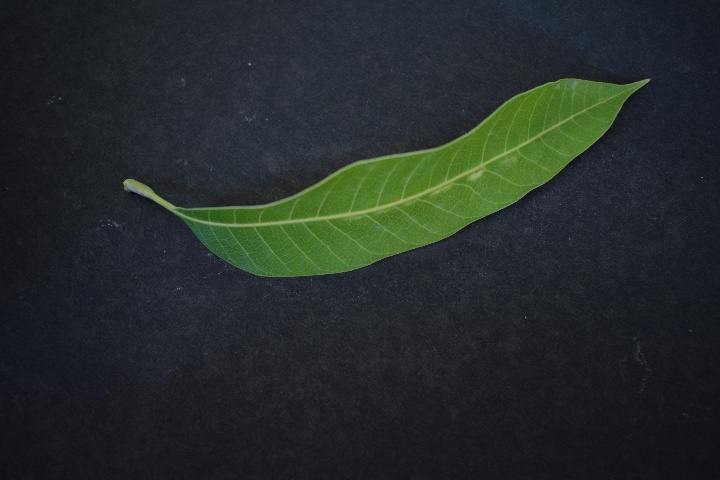healthy: (166, 70, 657, 279)
